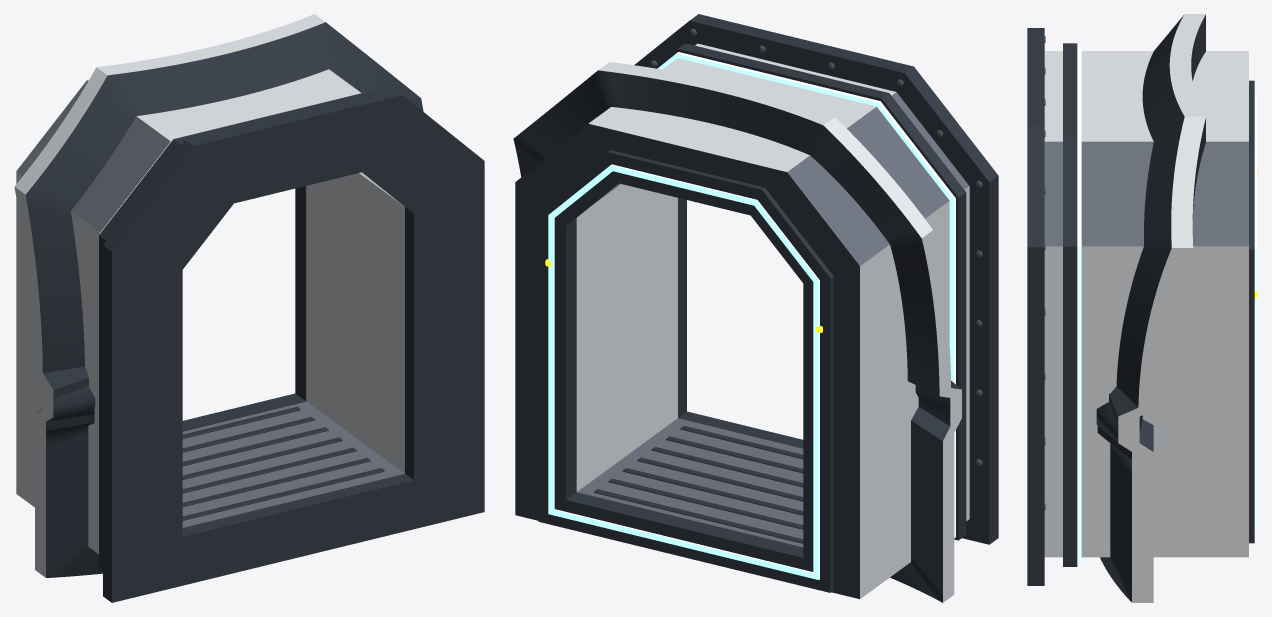
Rendered from DomeConnector_8m.fbx.
3 renders of one model, left to right at view 1: azimuth 30°, elevation 25°; view 2: azimuth 150°, elevation 25°; view 3: azimuth 270°, elevation 25°, orthographic. The views are drawn at different scales.
Parts seen in each view (by area): view 1: DomeConnector_Body; view 2: DomeConnector_Body; view 3: DomeConnector_Body.
Part boxes in pixels (box(x1,y1,x2,y2)): DomeConnector_Body: box(14, 14, 484, 602); DomeConnector_Body: box(513, 14, 998, 602); DomeConnector_Body: box(1027, 14, 1257, 602).
Size of the model in its own units: 3.08 by 3.43 by 1.61.
